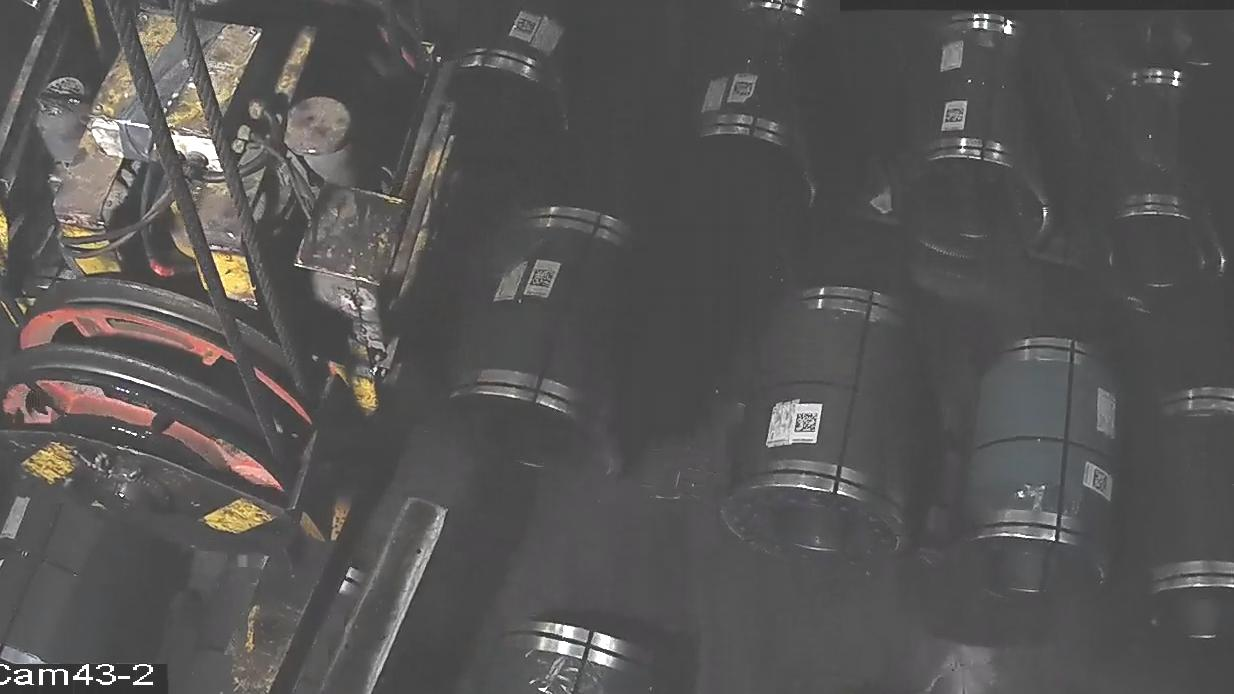data matrix: (792, 410, 822, 437), (529, 267, 558, 291), (1091, 467, 1112, 497), (512, 17, 538, 39), (732, 81, 755, 100), (943, 106, 966, 125)
